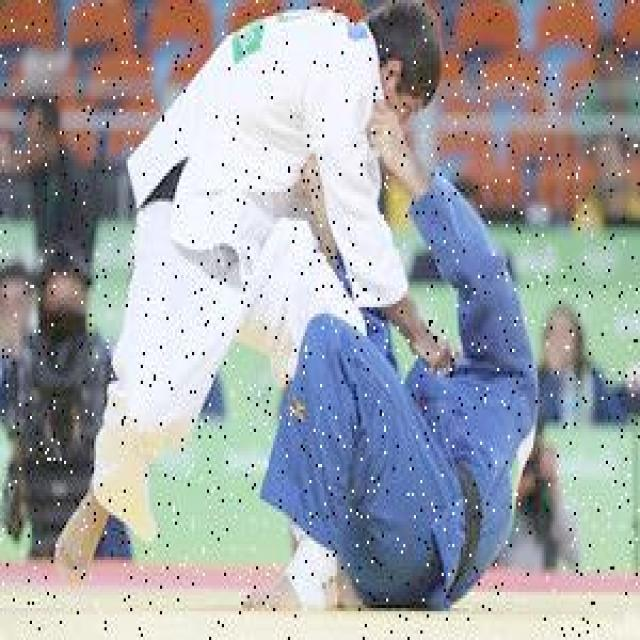fall: (290, 253, 538, 608)
